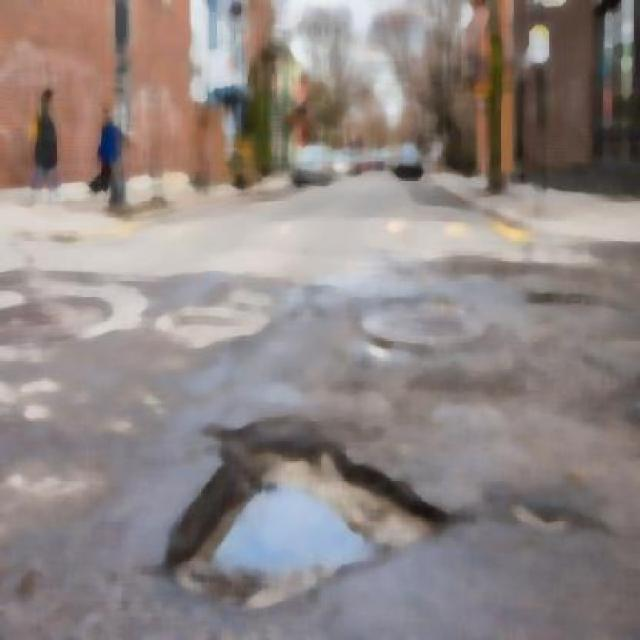Pothole: (165, 416, 456, 609)
